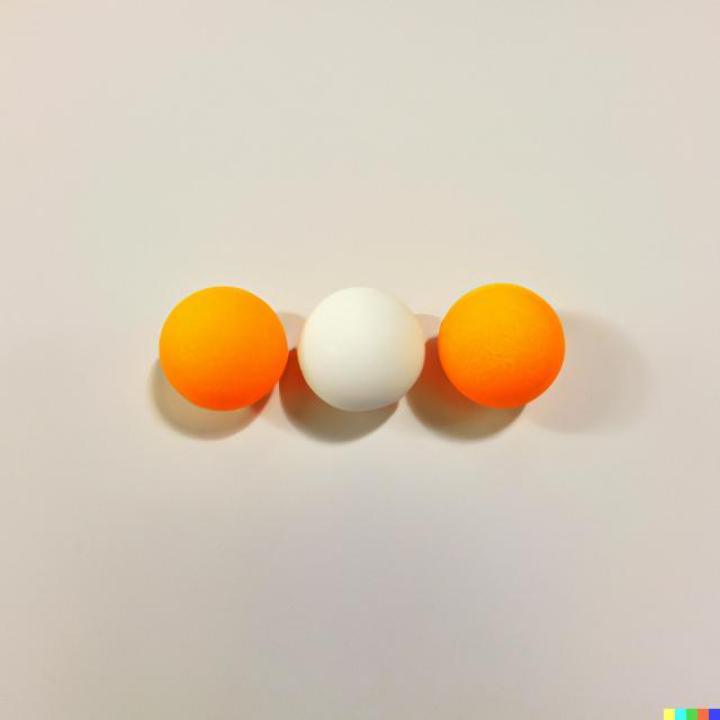orange: (161, 284, 288, 410), (437, 283, 565, 408)
white: (298, 286, 424, 413)
